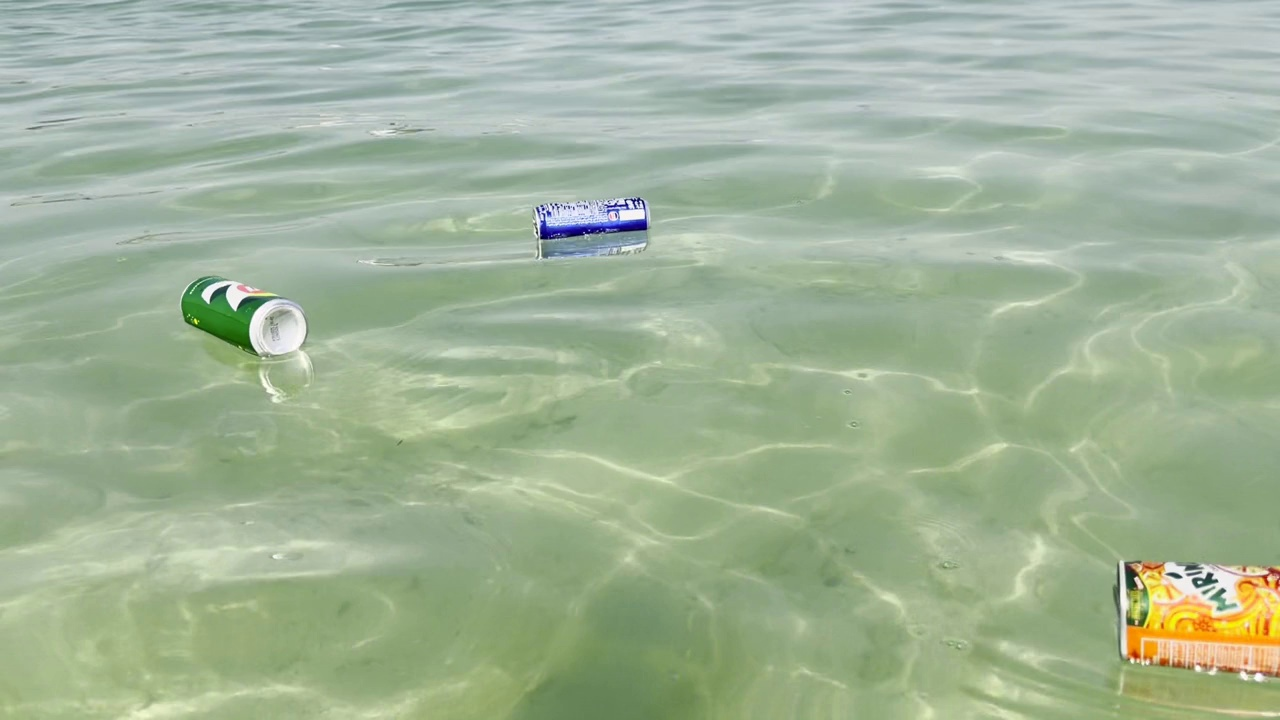debris: (1108, 542, 1280, 692), (164, 270, 313, 362), (524, 184, 655, 254)
